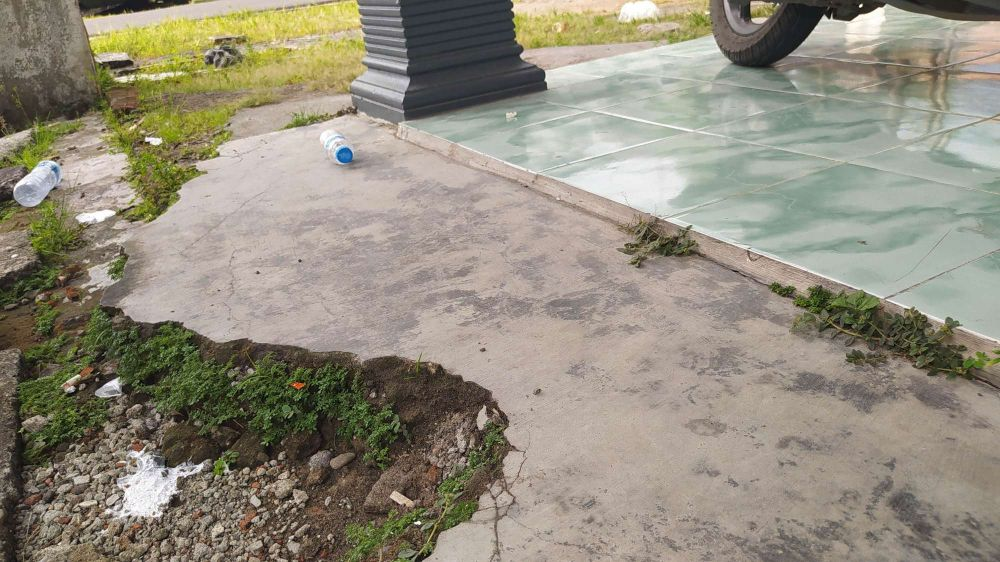botol: (3, 153, 82, 215), (313, 121, 358, 176)
